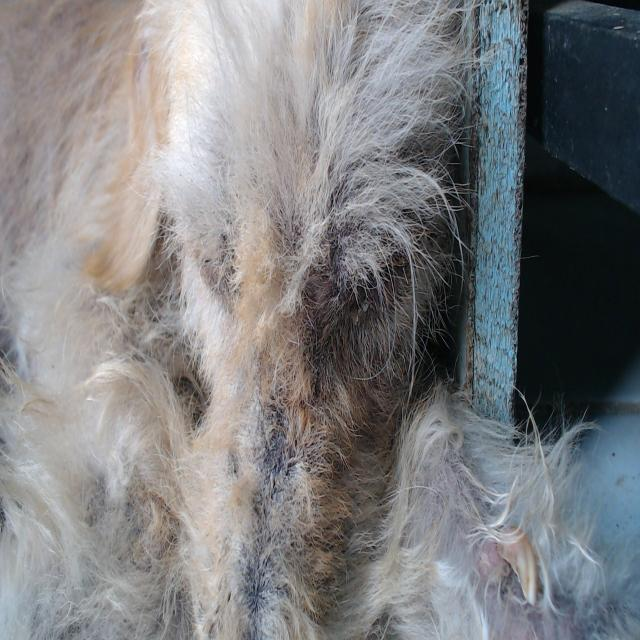demodicosis: (233, 400, 307, 592)
